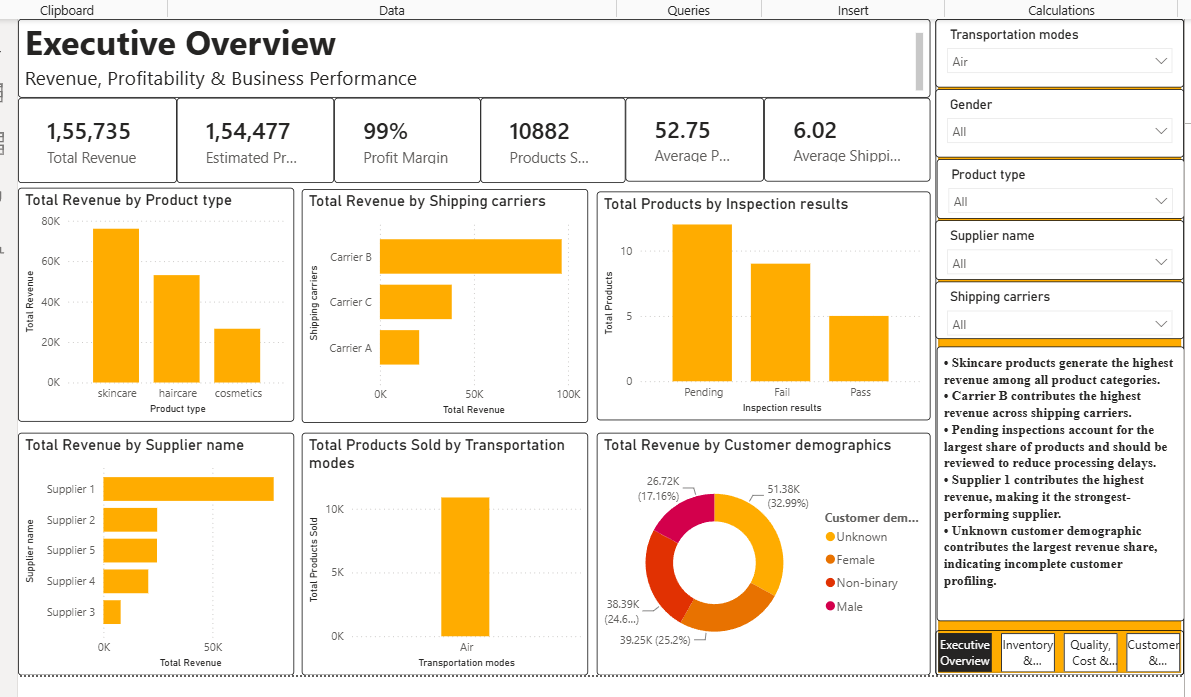

The page's visual inventory and layout, read from the dashboard file:
{"tool":"powerbi","page":{"name":"Executive Overview","canvas":[1280,720],"ordinal":0},"visuals":[{"type":"shape","box":[1007.2,0,273.1,720.4],"z":0},{"type":"cardVisual","fields":{"Data":["Fact_supplychain.Total Revenue"]},"box":[0,86.4,174.3,93.3],"z":1000},{"type":"cardVisual","fields":{"Data":["Fact_supplychain.Estimated Profit"]},"box":[174.3,86.4,172.9,93.3],"z":2000},{"type":"cardVisual","fields":{"Data":["Fact_supplychain.Profit Margin %"]},"box":[347.2,86.4,160.5,93.3],"z":3000},{"type":"cardVisual","fields":{"Data":["Fact_supplychain.Total Products Sold"]},"box":[507.7,86.4,159.2,93.3],"z":4000},{"type":"cardVisual","fields":{"Data":["Fact_supplychain.Average Product Price"]},"box":[666.9,86.4,152.3,91.9],"z":5000},{"type":"cardVisual","fields":{"Data":["Fact_supplychain.Average Shipping Cost"]},"box":[819.2,86.4,182.5,91.9],"z":6000},{"type":"slicer","fields":{"Values":["Fact_supplychain.Product type"]},"box":[1008.3,153.7,271.7,65.9],"z":7000},{"type":"slicer","fields":{"Values":["Fact_supplychain.Supplier name"]},"box":[1006.9,220.9,273.1,65.9],"z":8000},{"type":"slicer","fields":{"Values":["Fact_supplychain.Shipping carriers"]},"box":[1006.9,288.2,273.1,63.1],"z":9000},{"type":"slicer","fields":{"Values":["Fact_supplychain.Transportation modes"]},"box":[1007.2,0,273.1,75.5],"z":10000},{"type":"clusteredColumnChart","fields":{"Category":["Fact_supplychain.Product type"],"Y":["Fact_supplychain.Total Revenue"]},"box":[0,185.2,303.3,256.6],"z":11000},{"type":"donutChart","fields":{"Category":["Fact_supplychain.Customer demographics"],"Y":["Fact_supplychain.Total Revenue"]},"box":[635.3,454.2,366.4,266.2],"z":12000},{"type":"barChart","fields":{"Category":["Fact_supplychain.Shipping carriers"],"Y":["Fact_supplychain.Total Revenue"]},"box":[311.5,186.6,314.2,256.6],"z":13000},{"type":"clusteredColumnChart","fields":{"Category":["Fact_supplychain.Transportation modes"],"Y":["Fact_supplychain.Total Products Sold"]},"box":[311.5,454.2,314.2,266.2],"z":14000},{"type":"clusteredBarChart","fields":{"Category":["Fact_supplychain.Supplier name"],"Y":["Fact_supplychain.Total Revenue"]},"box":[0,454.2,303.3,266.2],"z":15000},{"type":"clusteredColumnChart","fields":{"Category":["Fact_supplychain.Inspection results"],"Y":["Fact_supplychain.Total Products"]},"box":[635.3,189.4,366.4,251.1],"z":16000},{"type":"slicer","fields":{"Values":["Fact_supplychain.Customer demographics"]},"box":[1007.2,76.8,273.1,75.5],"z":17000},{"type":"pageNavigator","box":[1007.2,671,273.1,49.4],"z":18000},{"type":"textbox","box":[1008.6,359.5,271.7,301.9],"z":19000},{"type":"textbox","box":[0,0,1001.7,86.4],"z":19001}]}

Visuals, with their boxes in screenshot pixels (x1, y1, x2, y2):
shape: {"x1": 934, "y1": 16, "x2": 1184, "y2": 677}
cardVisual - Fact_supplychain.Total Revenue: {"x1": 9, "y1": 95, "x2": 169, "y2": 180}
cardVisual - Fact_supplychain.Estimated Profit: {"x1": 169, "y1": 95, "x2": 328, "y2": 180}
cardVisual - Fact_supplychain.Profit Margin %: {"x1": 328, "y1": 95, "x2": 475, "y2": 180}
cardVisual - Fact_supplychain.Total Products Sold: {"x1": 475, "y1": 95, "x2": 621, "y2": 180}
cardVisual - Fact_supplychain.Average Product Price: {"x1": 621, "y1": 95, "x2": 761, "y2": 179}
cardVisual - Fact_supplychain.Average Shipping Cost: {"x1": 761, "y1": 95, "x2": 928, "y2": 179}
slicer - Fact_supplychain.Product type: {"x1": 935, "y1": 157, "x2": 1184, "y2": 217}
slicer - Fact_supplychain.Supplier name: {"x1": 933, "y1": 218, "x2": 1184, "y2": 279}
slicer - Fact_supplychain.Shipping carriers: {"x1": 933, "y1": 280, "x2": 1184, "y2": 338}
slicer - Fact_supplychain.Transportation modes: {"x1": 934, "y1": 16, "x2": 1184, "y2": 85}
clusteredColumnChart - Fact_supplychain.Product type x Fact_supplychain.Total Revenue: {"x1": 9, "y1": 185, "x2": 288, "y2": 421}
donutChart - Fact_supplychain.Customer demographics x Fact_supplychain.Total Revenue: {"x1": 592, "y1": 432, "x2": 928, "y2": 677}
barChart - Fact_supplychain.Shipping carriers x Fact_supplychain.Total Revenue: {"x1": 295, "y1": 187, "x2": 583, "y2": 422}
clusteredColumnChart - Fact_supplychain.Transportation modes x Fact_supplychain.Total Products Sold: {"x1": 295, "y1": 432, "x2": 583, "y2": 677}
clusteredBarChart - Fact_supplychain.Supplier name x Fact_supplychain.Total Revenue: {"x1": 9, "y1": 432, "x2": 288, "y2": 677}
clusteredColumnChart - Fact_supplychain.Inspection results x Fact_supplychain.Total Products: {"x1": 592, "y1": 189, "x2": 928, "y2": 420}
slicer - Fact_supplychain.Customer demographics: {"x1": 934, "y1": 86, "x2": 1184, "y2": 155}
pageNavigator: {"x1": 934, "y1": 631, "x2": 1184, "y2": 677}
textbox: {"x1": 935, "y1": 345, "x2": 1184, "y2": 622}
textbox: {"x1": 9, "y1": 16, "x2": 928, "y2": 95}
